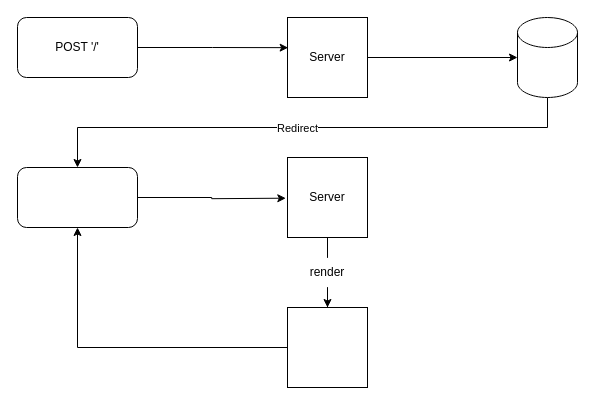
Image size: 595x405. Some labels were removed from this diagram. The centre of each missing label's shape, as x and y in pixels:
"GET '/'" goes at (77,197).
"index.hbs" goes at (327,347).
